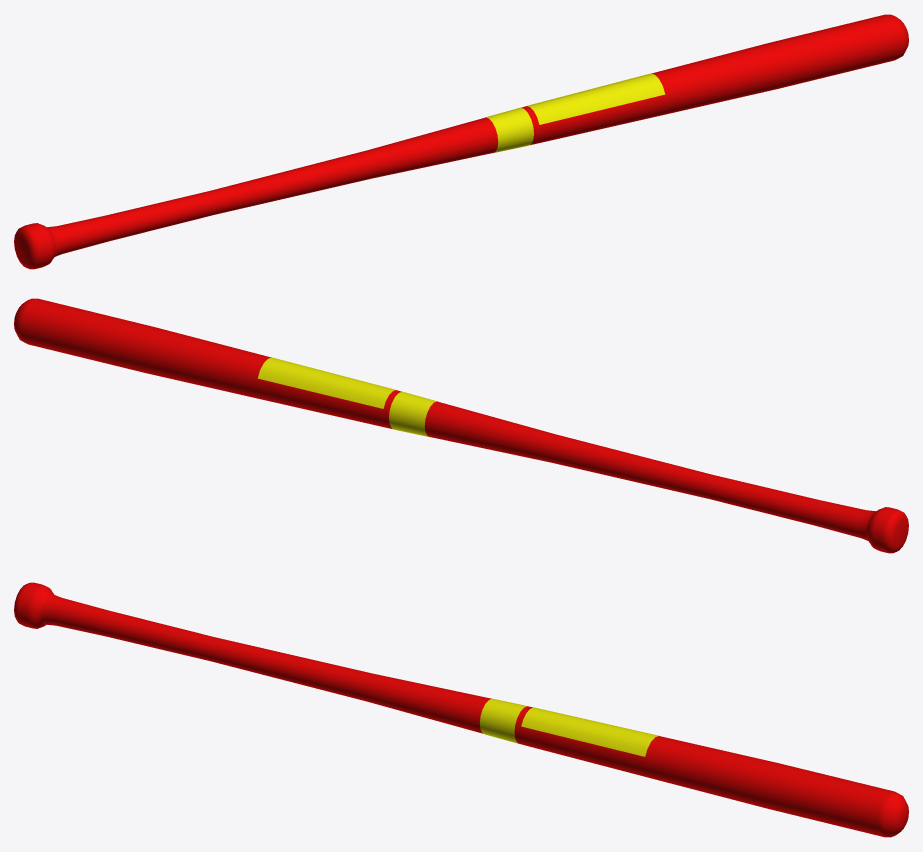
The model's file is RoboTHOR_baseball_bats_grp.fbx.
3 views of the same model, one above another, from view 1: azimuth 30°, elevation 25°; view 2: azimuth 150°, elevation 25°; view 3: azimuth 330°, elevation 25° (orthographic).
Parts seen in each view (by area): view 1: robothor_baseball_bat_rawlings; view 2: robothor_baseball_bat_rawlings; view 3: robothor_baseball_bat_rawlings.
Boxes of the visible parts, x1,y1,x2,y2 form: robothor_baseball_bat_rawlings: (14, 14, 908, 269); robothor_baseball_bat_rawlings: (14, 298, 908, 553); robothor_baseball_bat_rawlings: (14, 582, 908, 837).
Size of the model in its own units: 43.22 by 2 by 2.
